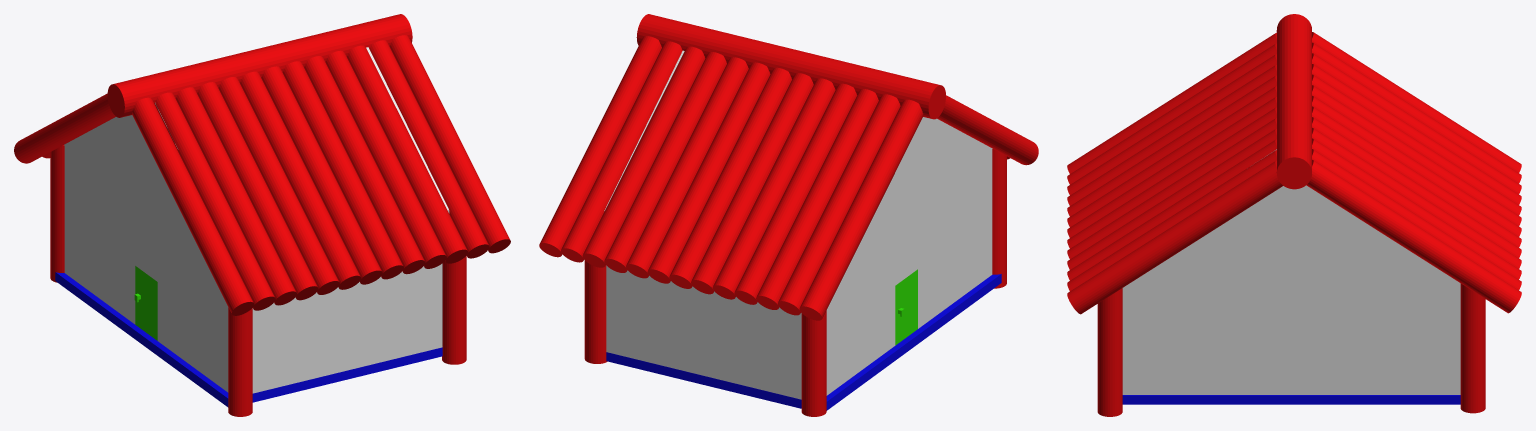
Rendered from stone_house.fbx.
3 views of the same model, side by side, from view 1: azimuth 30°, elevation 25°; view 2: azimuth 150°, elevation 25°; view 3: azimuth 270°, elevation 25° (orthographic). The views are drawn at different scales.
Parts seen in each view (by area): view 1: Cube.001, Cube.005, Cylinder.032, Cylinder.058, Cylinder.055, Cylinder.050, Cylinder.052, Cylinder.054, Cylinder.056, Cylinder.047, Cylinder.048, Cylinder.051 (+11 smaller); view 2: Cube.001, Cube.004, Cylinder.032, Cylinder.044, Cylinder.033, Cylinder.039, Cylinder.042, Cylinder.036, Cylinder.038, Cylinder.040, Cylinder.037, Cylinder.045 (+10 smaller); view 3: Cube.002, Cylinder.057, Cylinder.045, Cylinder.032, Cube, Cylinder.028, Cylinder.031, Cylinder.033, Cylinder.036, Cylinder.038, Cylinder.050, Cylinder.056 (+19 smaller).
Boxes of the visible parts, x1,y1,x2,y2 form: Cube.001: (64, 103, 228, 392); Cube.005: (252, 264, 442, 393); Cylinder.032: (107, 14, 412, 117); Cylinder.058: (132, 97, 254, 315); Cylinder.055: (176, 87, 296, 305); Cylinder.050: (283, 61, 403, 279); Cylinder.052: (240, 71, 360, 289); Cylinder.054: (197, 82, 318, 300); Cylinder.056: (154, 92, 275, 310); Cylinder.047: (347, 45, 467, 263); Cylinder.048: (325, 50, 446, 268); Cylinder.051: (261, 66, 382, 284); Cube.001: (826, 117, 992, 395); Cube.004: (606, 265, 801, 399); Cylinder.032: (636, 14, 945, 119); Cylinder.044: (799, 99, 923, 320); Cylinder.033: (777, 94, 900, 315); Cylinder.039: (647, 62, 770, 283); Cylinder.042: (582, 46, 705, 267); Cylinder.036: (712, 78, 835, 299); Cylinder.038: (669, 67, 791, 288); Cylinder.040: (626, 57, 748, 278); Cylinder.037: (691, 73, 813, 294); Cylinder.045: (539, 36, 661, 257); Cube.002: (1122, 149, 1460, 394); Cylinder.057: (1067, 160, 1283, 314); Cylinder.045: (1306, 159, 1521, 313); Cylinder.032: (1276, 14, 1311, 189); Cube: (1122, 395, 1460, 404); Cylinder.028: (1460, 283, 1485, 413); Cylinder.031: (1097, 288, 1122, 416); Cylinder.033: (1312, 42, 1521, 183); Cylinder.036: (1312, 74, 1521, 215); Cylinder.038: (1312, 95, 1521, 236); Cylinder.050: (1067, 107, 1276, 248); Cylinder.056: (1067, 43, 1276, 184).
Size of the model in its own units: 6726 by 6000 by 9017.
